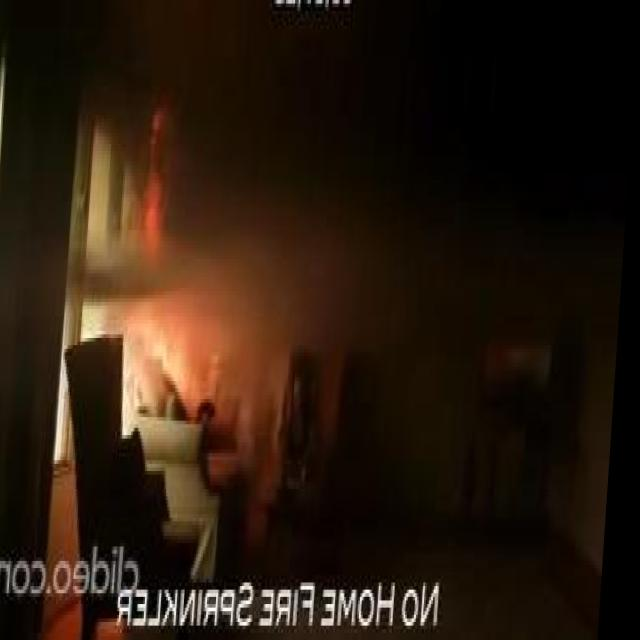fire: (150, 324, 198, 399), (139, 169, 170, 259), (151, 97, 171, 133)
